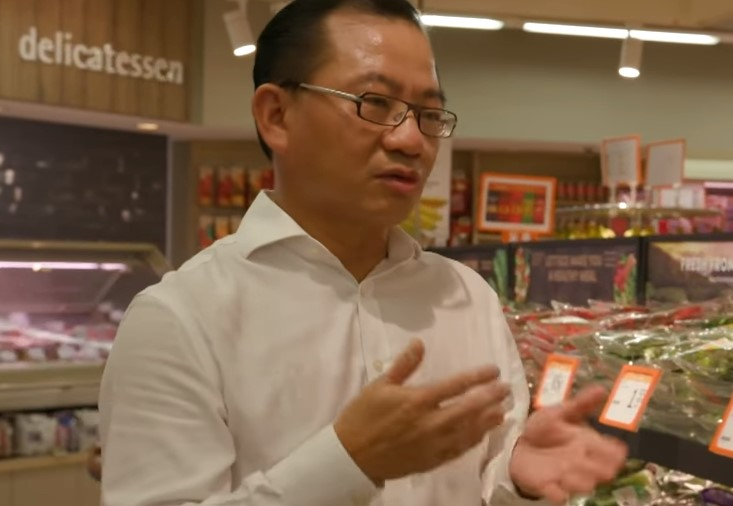face_no_mask: (261, 6, 450, 230)
